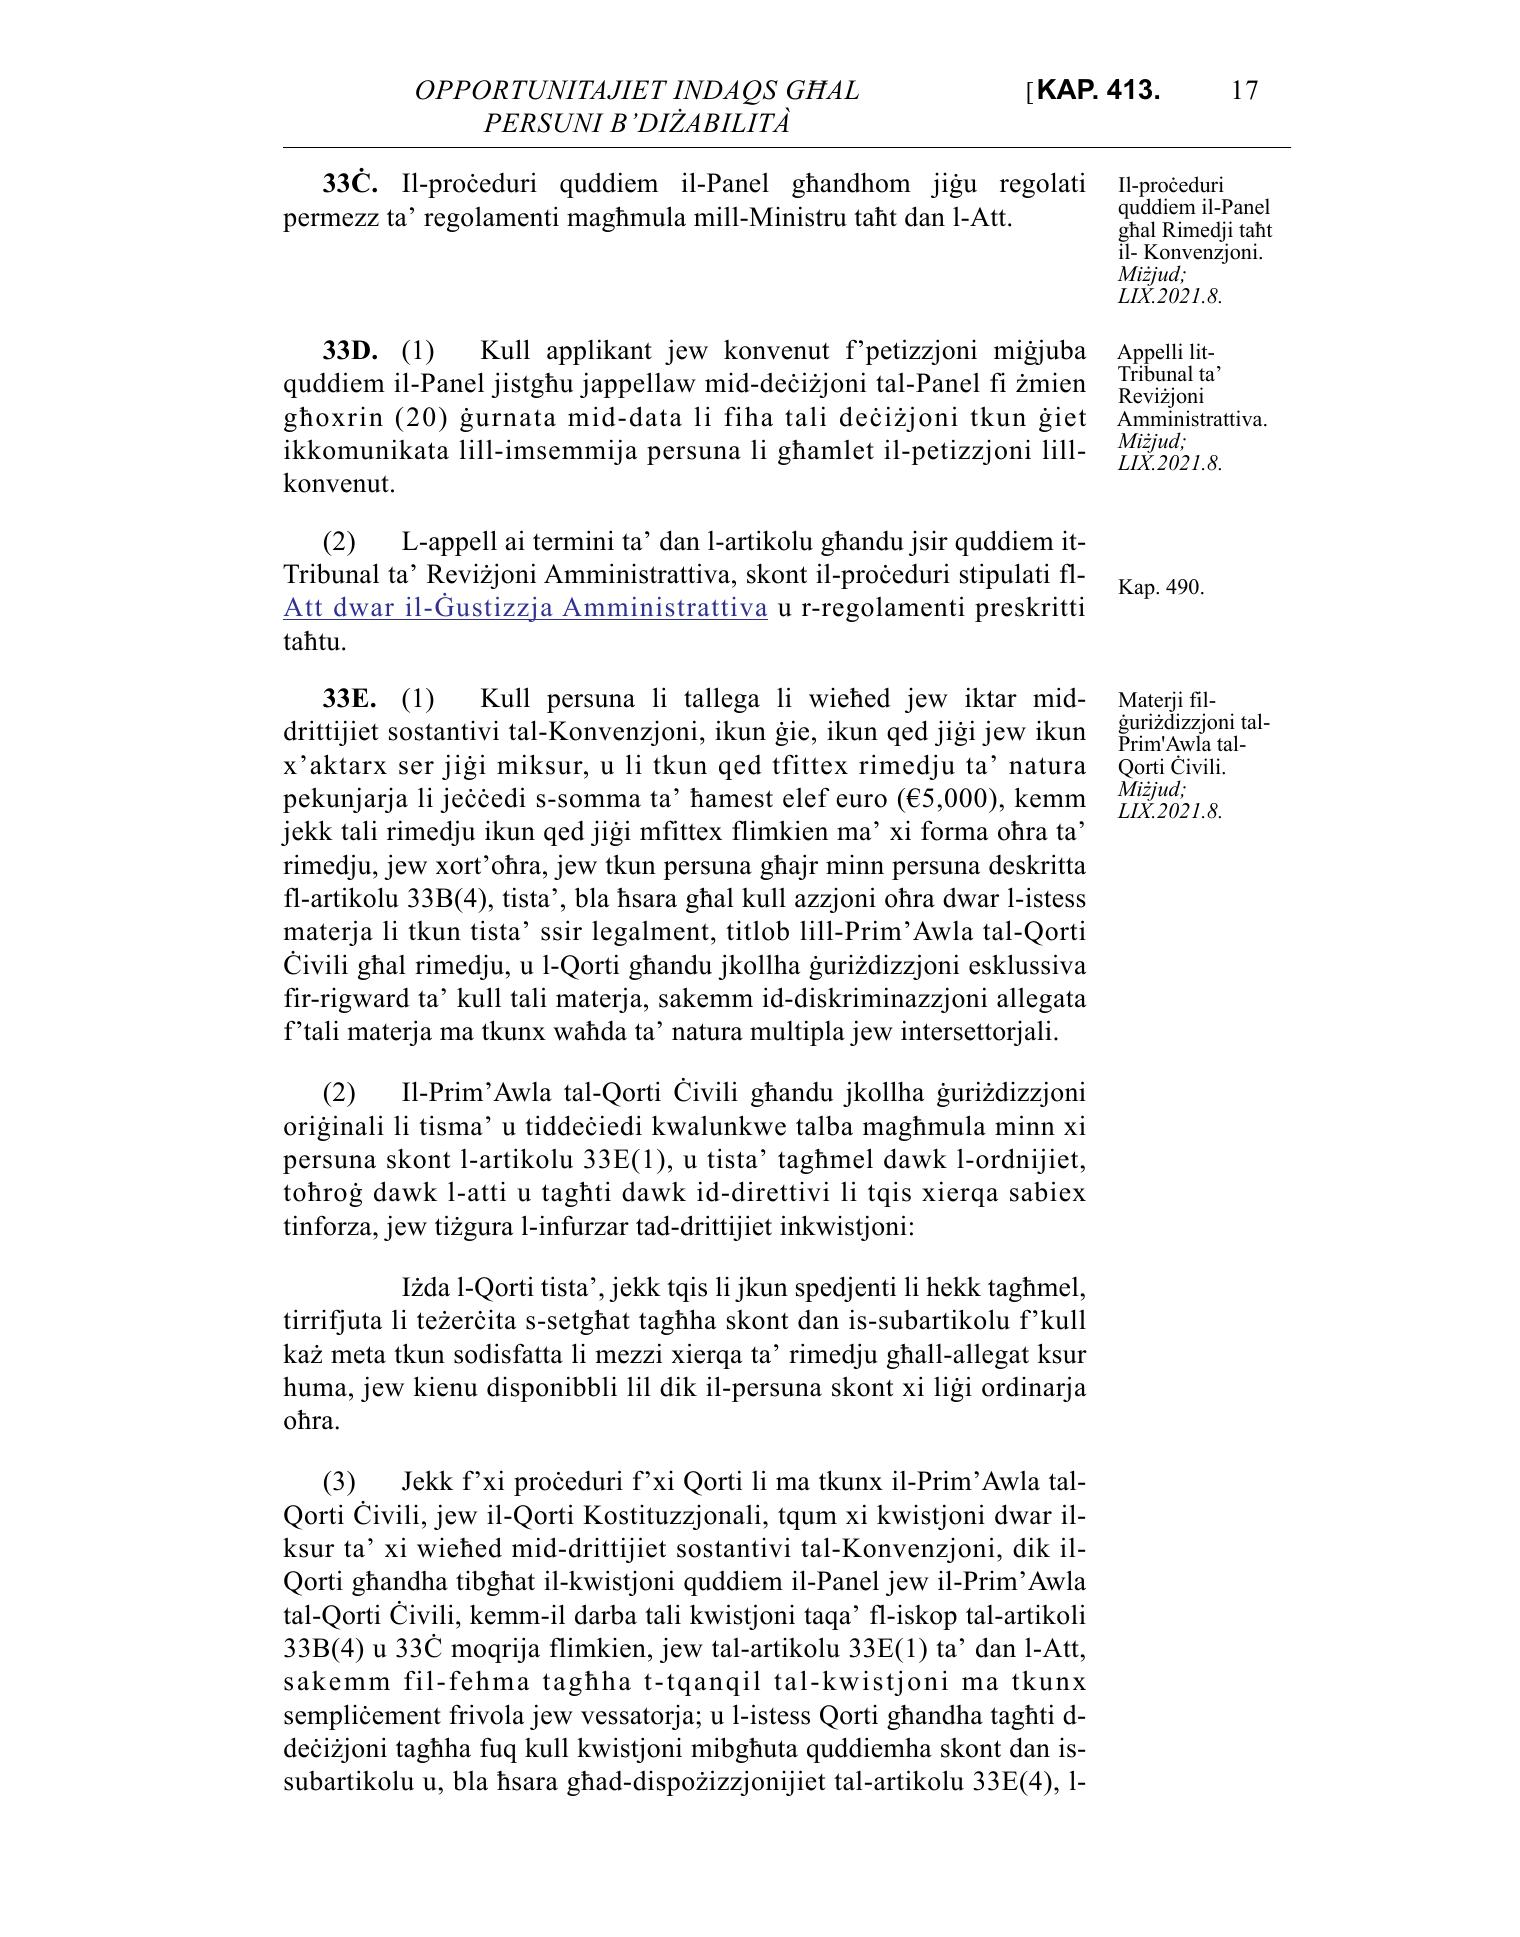text: (263, 157, 1099, 1811)
